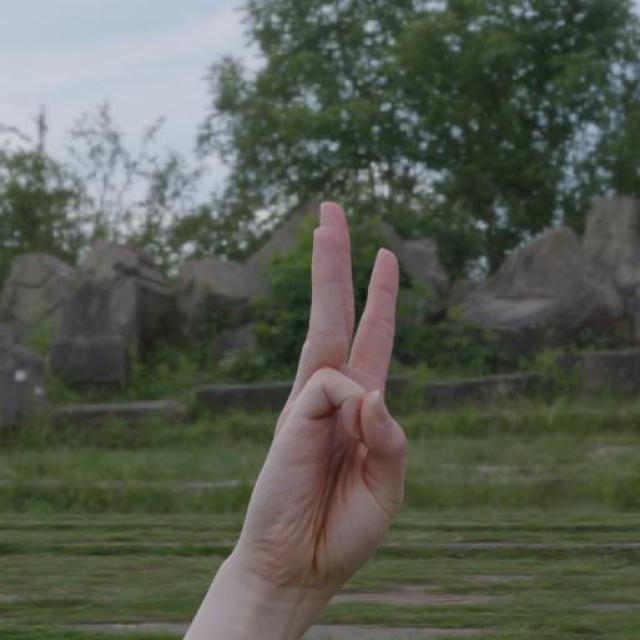W: (190, 176, 414, 605)
